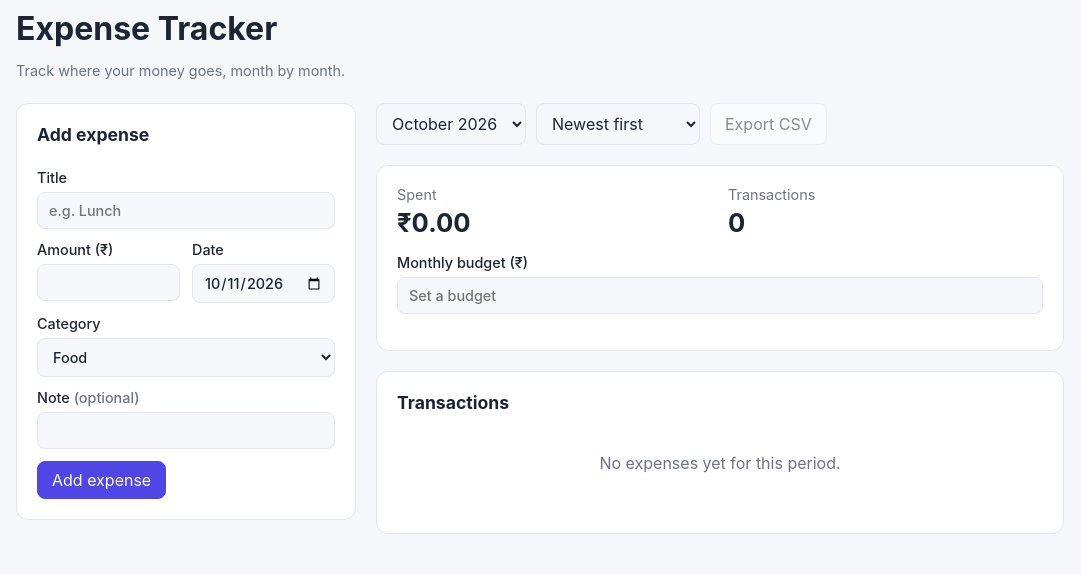
Test case: App › validates the form
Click the button "Add expense" at point(102, 480), box [37,461,166,499]
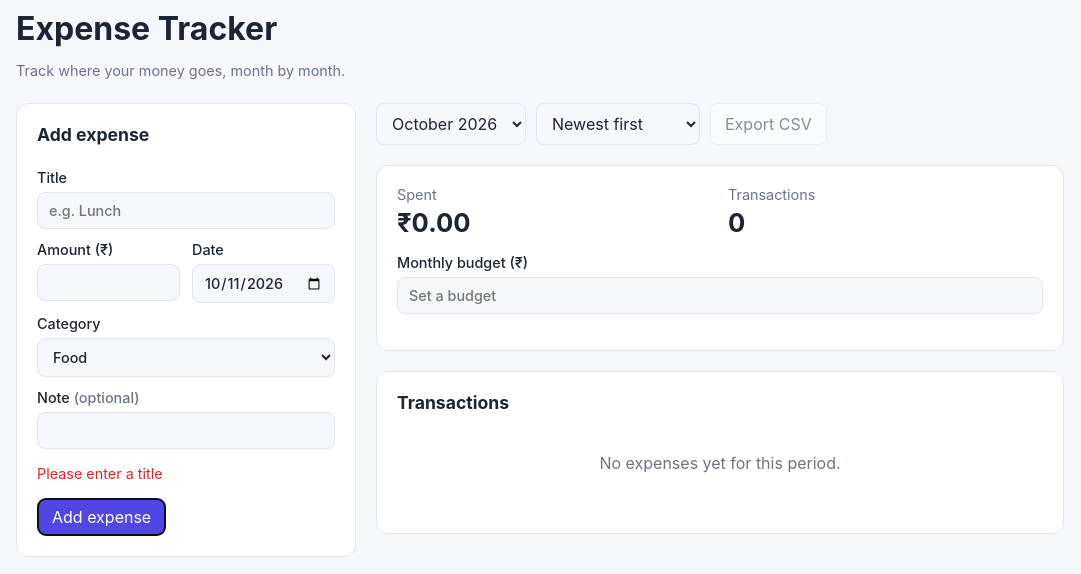
Expected: the message shows "title", [37,465,162,482]
